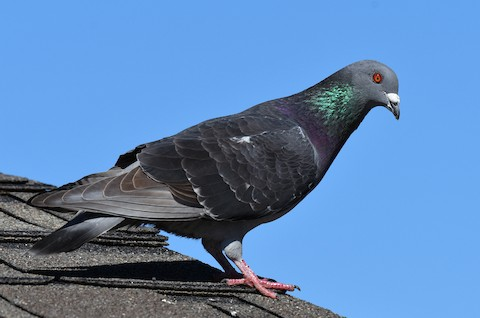pigeon: (20, 53, 404, 305)
